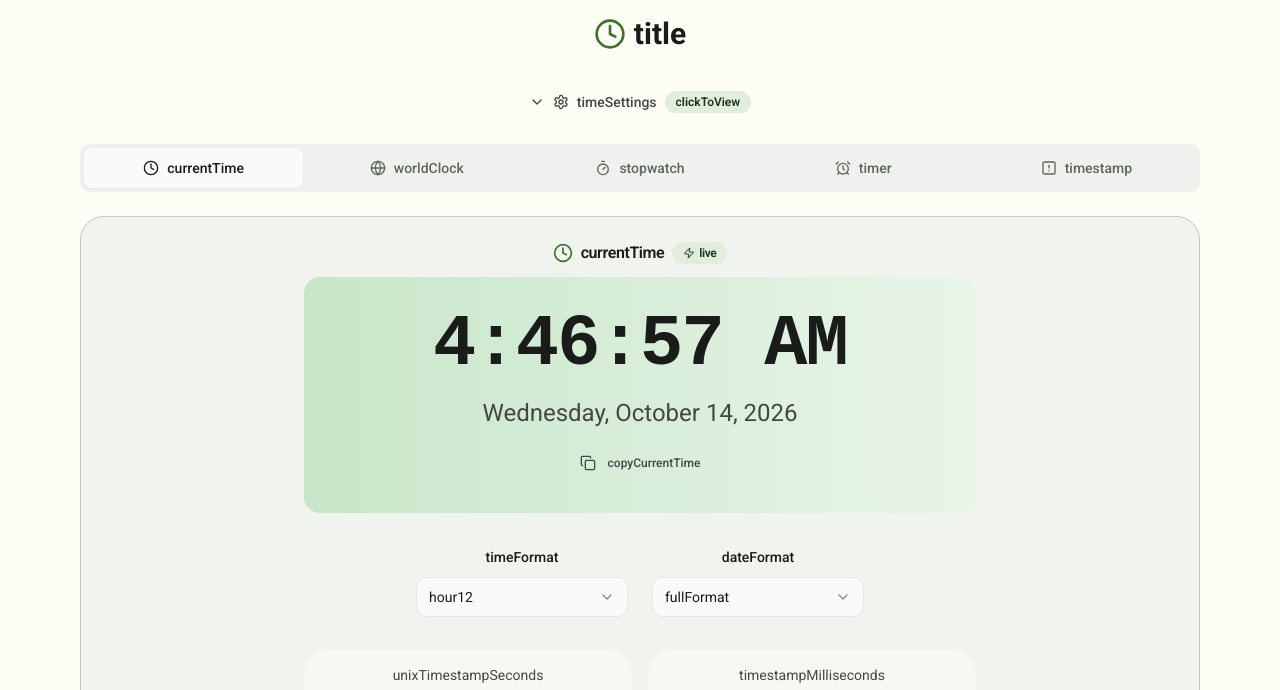
timestamp converter › converts as you type and detects a millisecond timestamp
Press the mouse on the tab "timestamp": (1086, 168) left=977, top=148, right=1196, bottom=188
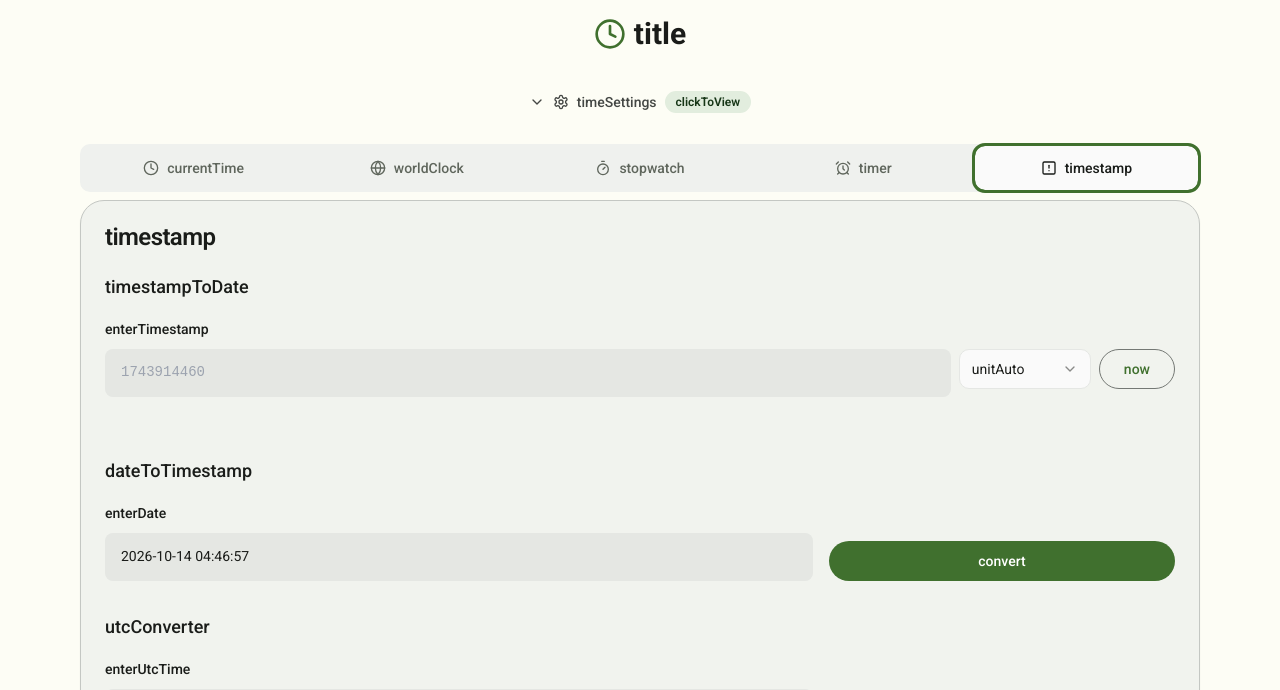
In the field labelled "enterTimestamp": (528, 373) left=105, top=349, right=951, bottom=397, type "1700000000000"
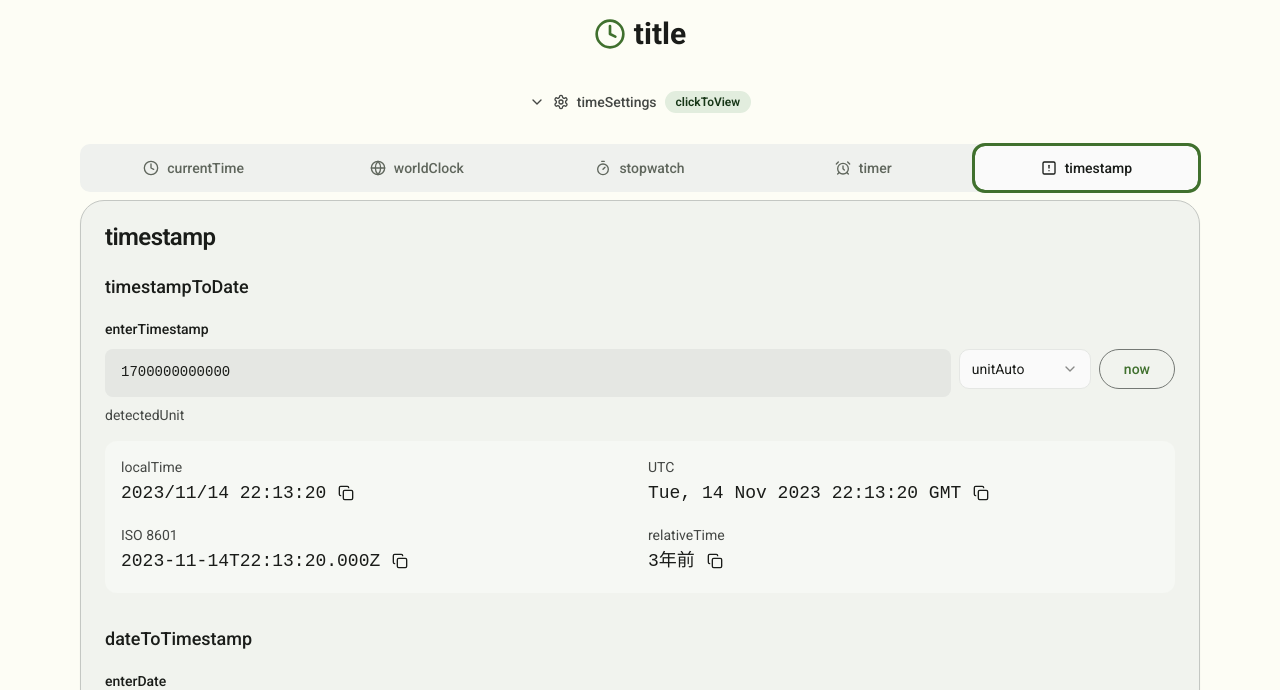
Result: the text "2023-11-14T22:13:20.000Z" is shown at left=121, top=547, right=380, bottom=575
Result: the text "detectedUnit" is shown at left=105, top=407, right=184, bottom=423
Result: the button named "copy ISO 8601" is shown at left=384, top=545, right=416, bottom=577
